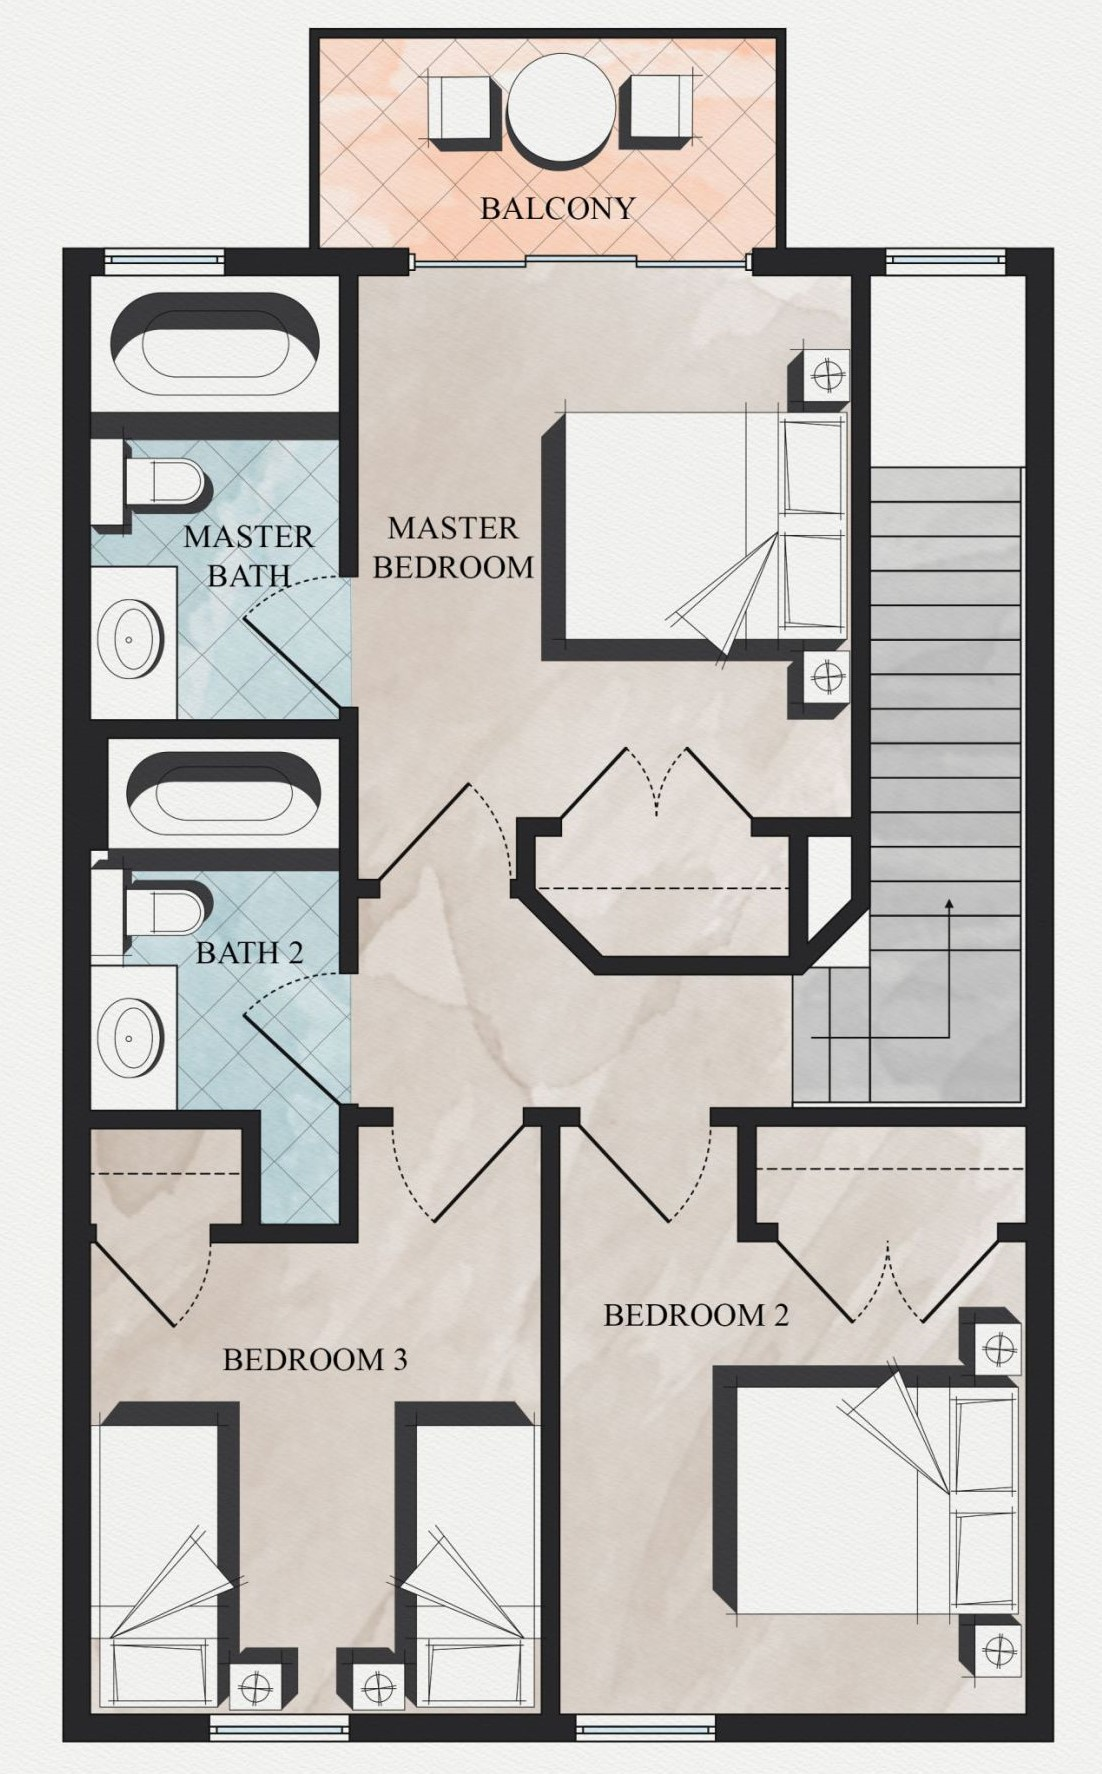wall: (1022, 249, 1055, 1738), (63, 242, 90, 1746), (540, 1112, 560, 1738), (852, 270, 871, 897), (74, 411, 355, 442), (706, 1100, 1033, 1124), (349, 1714, 579, 1749), (708, 1716, 1052, 1738), (95, 849, 347, 873), (342, 265, 361, 574), (339, 706, 358, 976), (601, 950, 790, 976), (231, 249, 401, 273), (755, 246, 890, 277), (98, 722, 342, 739), (69, 1714, 212, 1741), (212, 1225, 349, 1249), (85, 1114, 258, 1133), (755, 811, 854, 841), (244, 1119, 267, 1239), (90, 714, 109, 851), (736, 1122, 758, 1235), (342, 1108, 358, 1246), (514, 816, 536, 897), (344, 1103, 395, 1129), (1004, 249, 1060, 273), (526, 1103, 579, 1124), (993, 1219, 1028, 1249), (744, 1219, 774, 1239)
